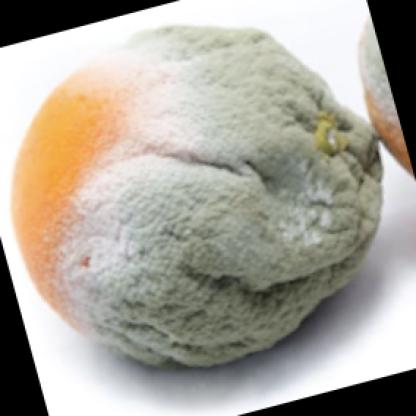rotten: (11, 26, 385, 373)
